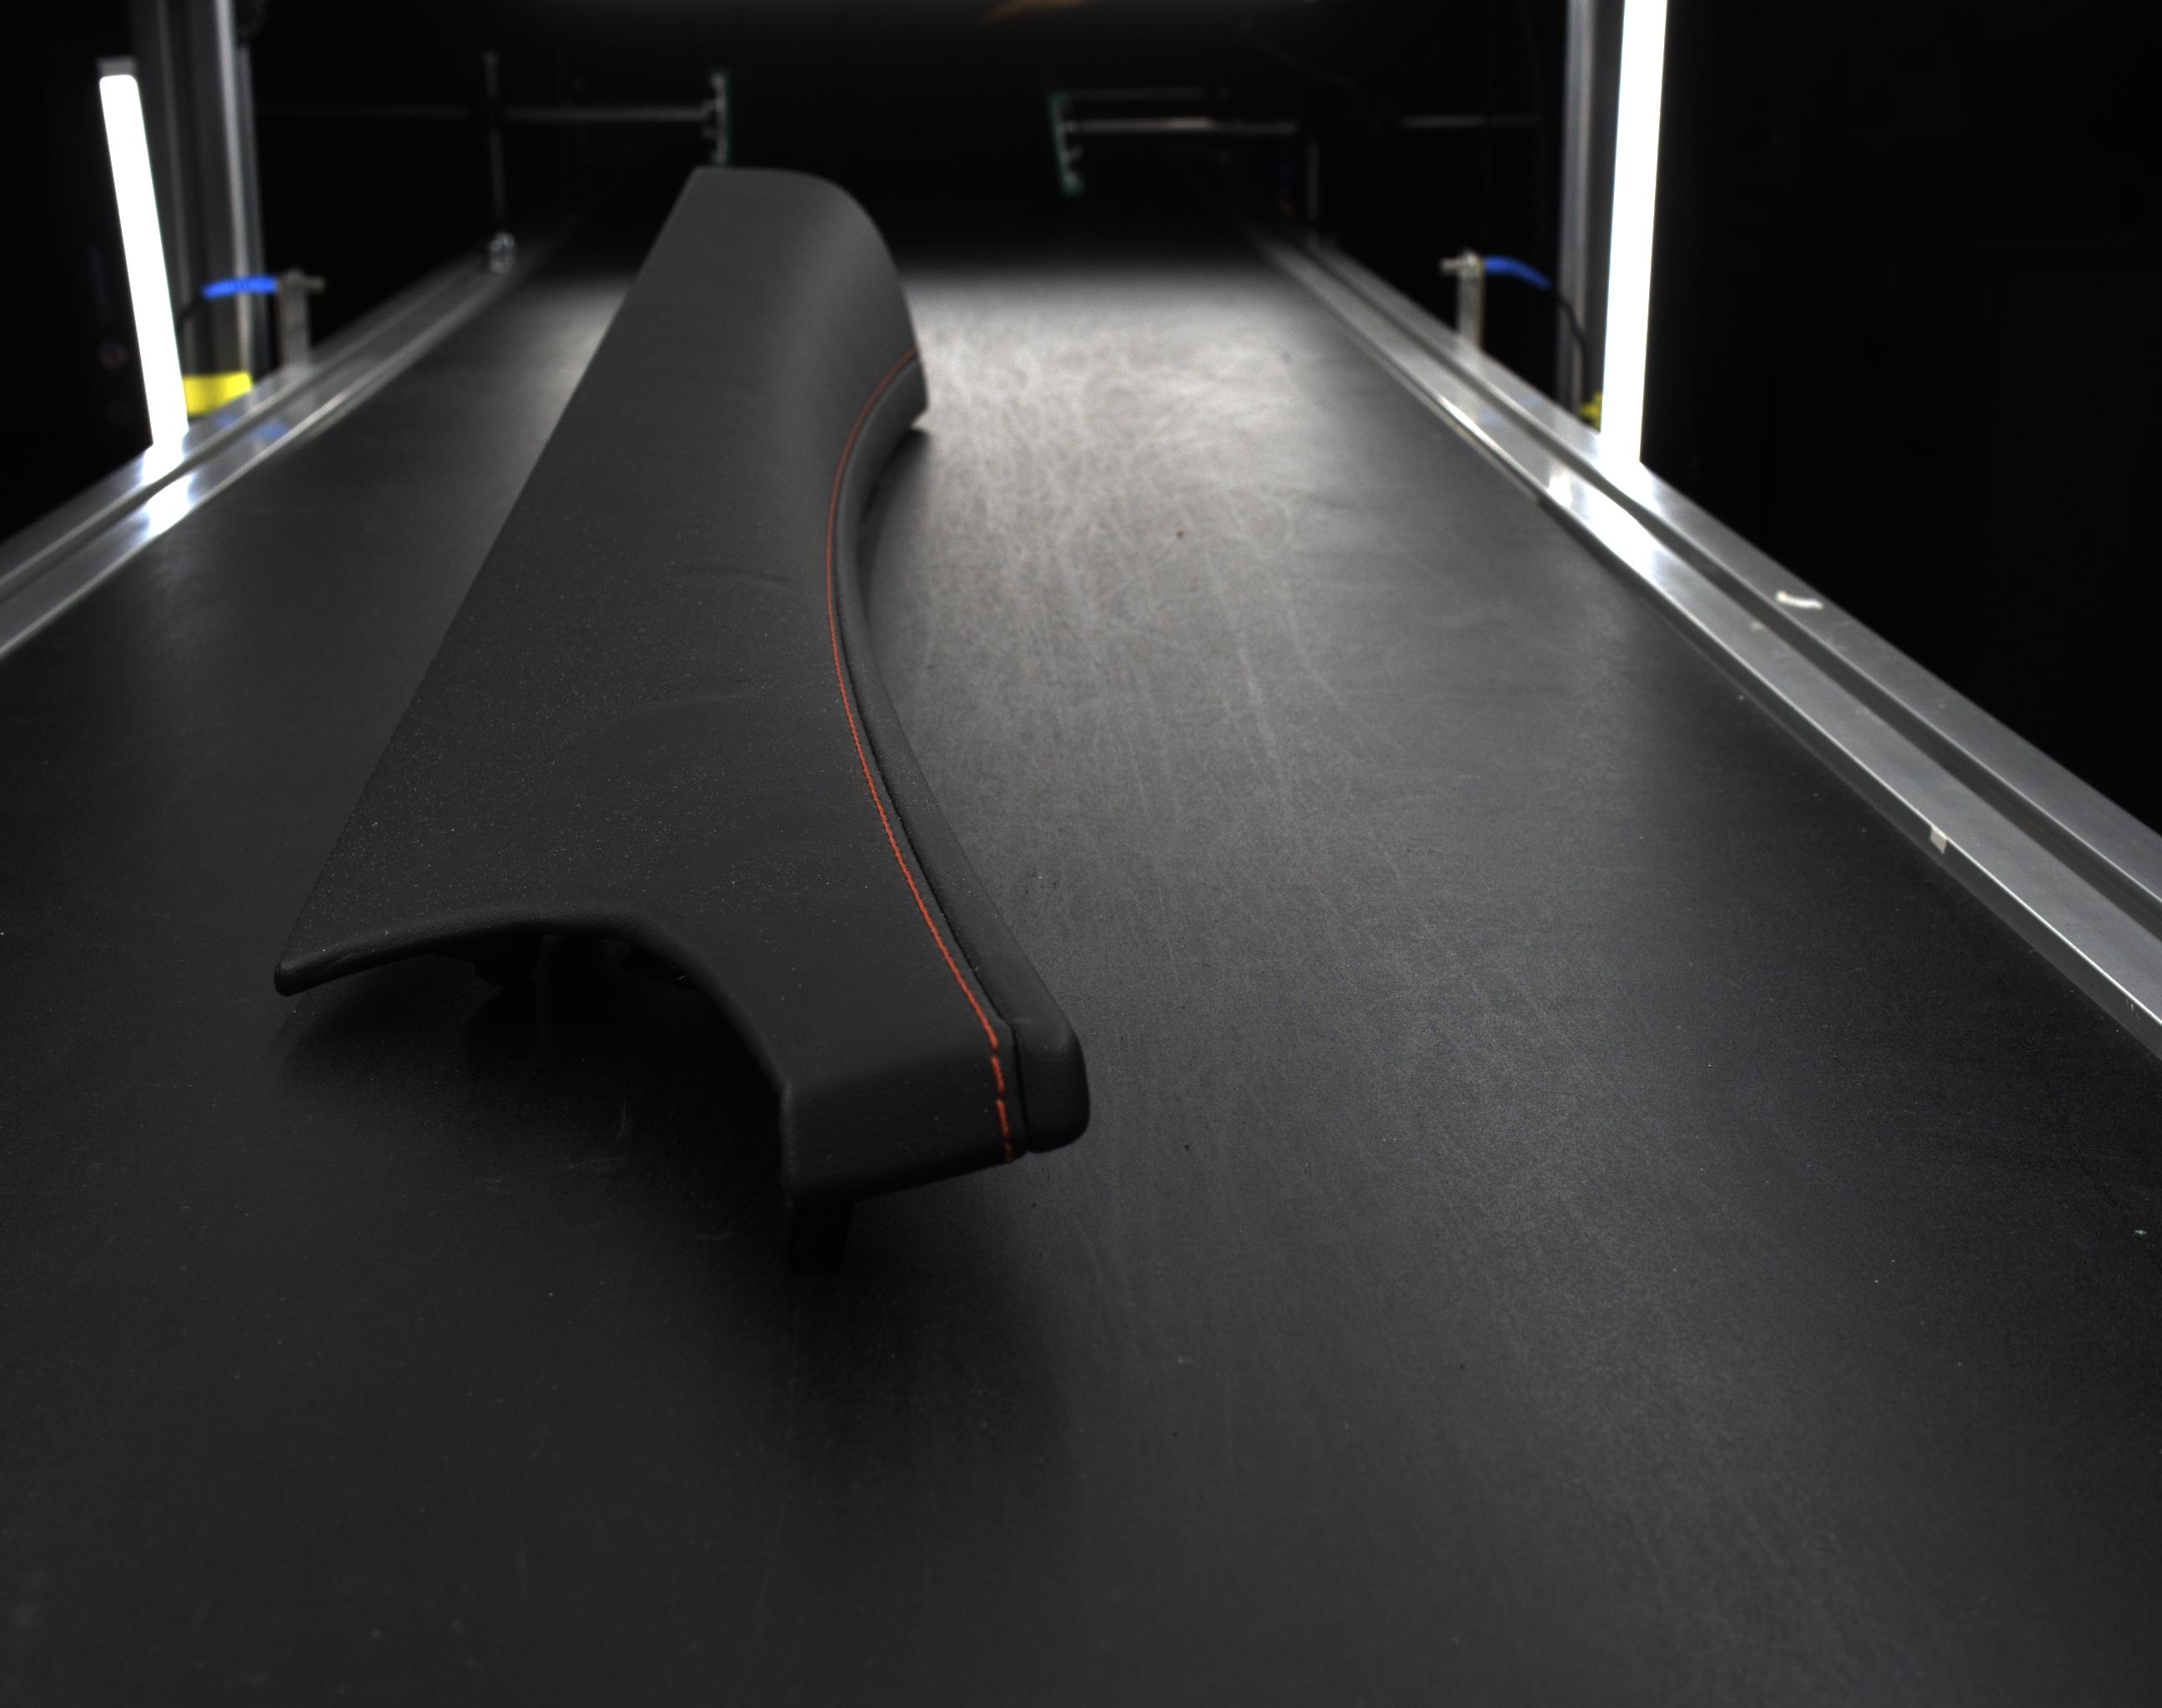vline: (990, 1055, 1006, 1090), (997, 1101, 1011, 1139)
